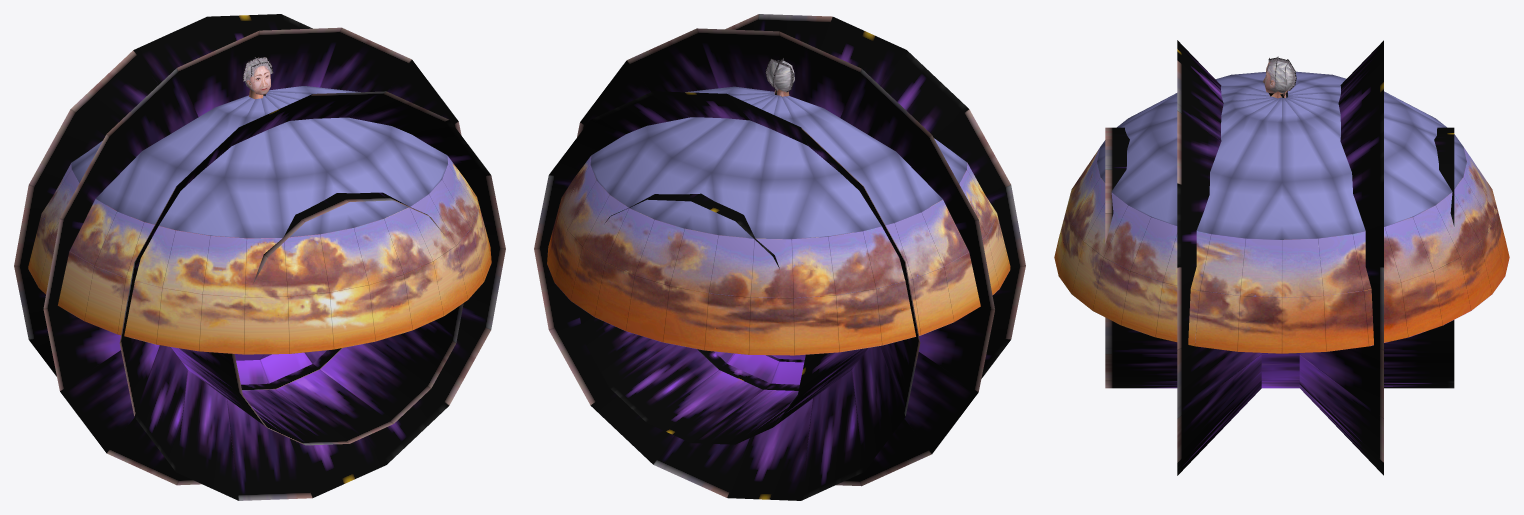
3 views of the same model, side by side, from view 1: azimuth 30°, elevation 25°; view 2: azimuth 150°, elevation 25°; view 3: azimuth 270°, elevation 25° (orthographic). The views are drawn at different scales.
Visible parts, largest first — view 1: T1L1M003_5, T1L1M003_12, T1L1M003_3, T1L1M003_4; view 2: T1L1M003_5, T1L1M003_12, T1L1M003_4, T1L1M003_3; view 3: T1L1M003_12, T1L1M003_5, T1L1M003_3.
Boxes of the visible parts, x1,y1,x2,y2 form: T1L1M003_5: [14, 14, 505, 500]; T1L1M003_12: [28, 86, 491, 354]; T1L1M003_3: [243, 57, 273, 94]; T1L1M003_4: [241, 348, 342, 390]; T1L1M003_5: [534, 14, 1025, 500]; T1L1M003_12: [547, 86, 1010, 355]; T1L1M003_4: [697, 349, 804, 390]; T1L1M003_3: [765, 57, 794, 96]; T1L1M003_12: [1054, 71, 1509, 353]; T1L1M003_5: [1105, 40, 1454, 475]; T1L1M003_3: [1263, 56, 1296, 97].
Bounding box in the file's own units: 4.38 × 4.38 × 4.09.
Materials: 26 (26 with a texture image).
